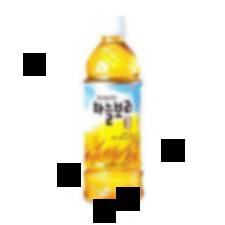haneulbori: (82, 14, 146, 205)
